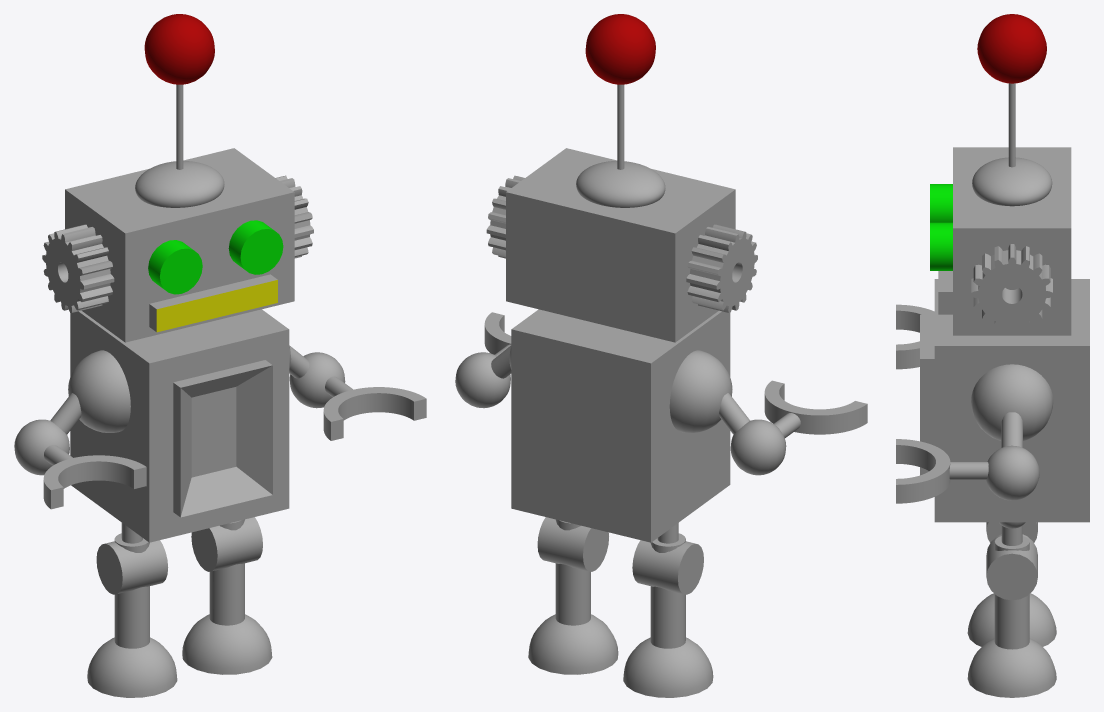
The model's file is Player Test.fbx.
3 views of the same model, side by side, from view 1: azimuth 30°, elevation 25°; view 2: azimuth 150°, elevation 25°; view 3: azimuth 270°, elevation 25° (orthographic).
Parts seen in each view (by area): view 1: pCube1, pCube2, pGear1, pSphere7, pSphere9, pSphere1, pSphere2, pPlatonic1, pCube3, pCube4, pCylinder13, pCylinder10 (+9 smaller); view 2: pCube1, pCube2, pGear1, pSphere7, pSphere9, pSphere1, pSphere2, pPlatonic1, pCylinder13, pCylinder10, pCube3, pSphere3 (+7 smaller); view 3: pCube1, pCube2, pGear2, pSphere4, pSphere7, pSphere1, pPlatonic1, pCube4, pCylinder10, pSphere5, pSphere9, pCylinder11 (+8 smaller).
Boxes of the visible parts, x1,y1,x2,y2 form: pCube1: (70,309,289,542); pCube2: (65,148,294,342); pGear1: (42,224,114,312); pSphere7: (182,614,272,674); pSphere9: (87,637,177,697); pSphere1: (144,14,214,84); pSphere2: (68,350,130,432); pPlatonic1: (135,161,224,207); pCube3: (43,455,146,509); pCube4: (323,387,426,440); pCylinder13: (96,540,168,594); pCylinder10: (191,517,262,571); pCube1: (511,309,730,542); pCube2: (506,148,735,342); pGear1: (686,224,757,312); pSphere7: (528,614,618,674); pSphere9: (623,637,713,697); pSphere1: (585,14,655,84); pSphere2: (669,350,732,432); pPlatonic1: (576,161,665,207); pCylinder13: (632,540,703,594); pCylinder10: (537,517,608,571); pCube3: (764,380,867,434); pSphere3: (730,419,786,475); pCube1: (920,279,1089,522); pCube2: (938,147,1071,335); pGear2: (971,244,1052,331); pSphere4: (971,364,1053,440); pSphere7: (967,638,1056,697); pSphere1: (977,14,1046,83); pPlatonic1: (972,157,1052,206); pCube4: (896,439,950,503); pCylinder10: (986,534,1037,600); pSphere5: (986,445,1039,500); pSphere9: (967,593,1056,646); pCylinder11: (994,536,1029,649).
Size of the model in its own units: 1.58 by 2.62 by 0.7195.
